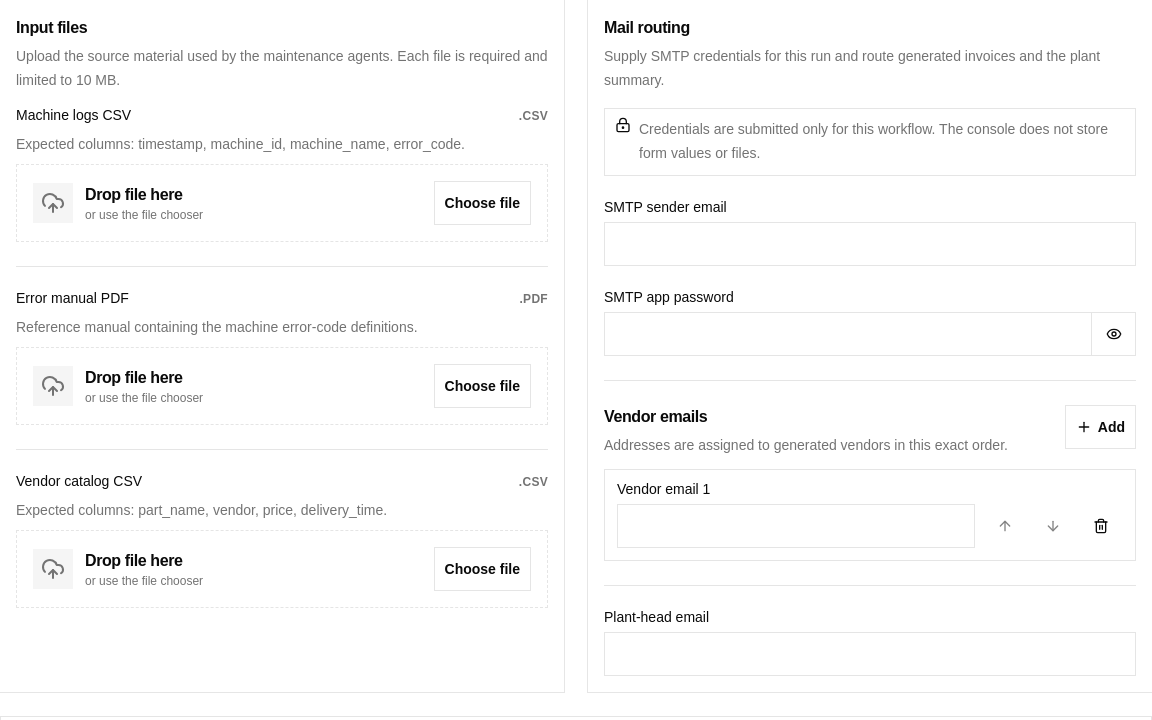
Test: WorkflowForm › adds and removes vendor email controls
The width and height of the screenshot is (1152, 720).
Click the button "Add": [1100, 427] box [1065,405,1136,449]
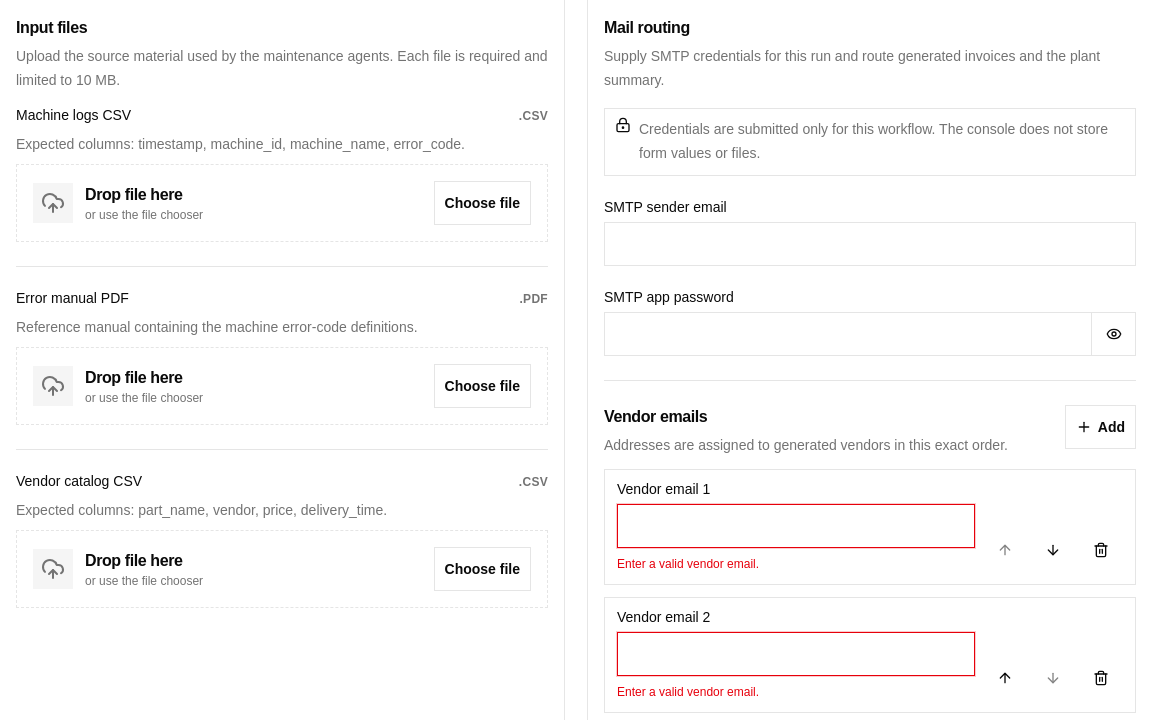
Expected: the field labelled "Vendor email 2" is shown, [617,632,975,676]
Click the button named "Remove vendor email 1": [1101, 550] box [1079,528,1123,572]
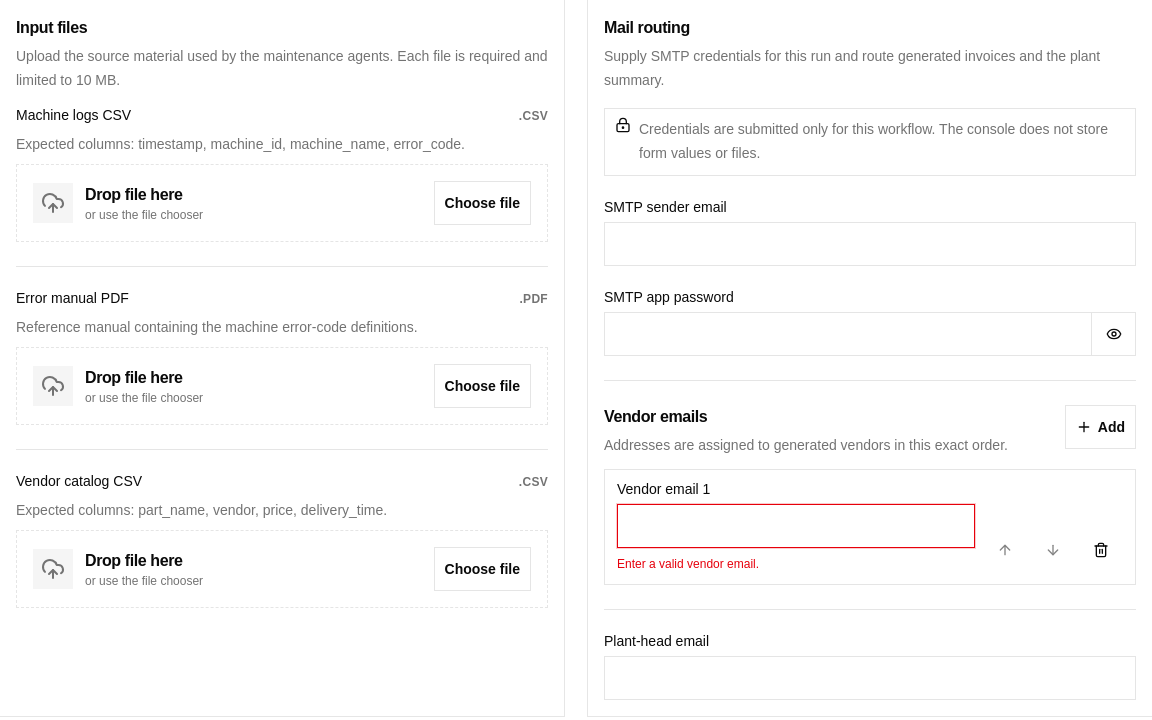
Expected: the field labelled "Vendor email 1" is shown, [617,504,975,548]
Expected: the label labelled "Vendor email 2" is gone
